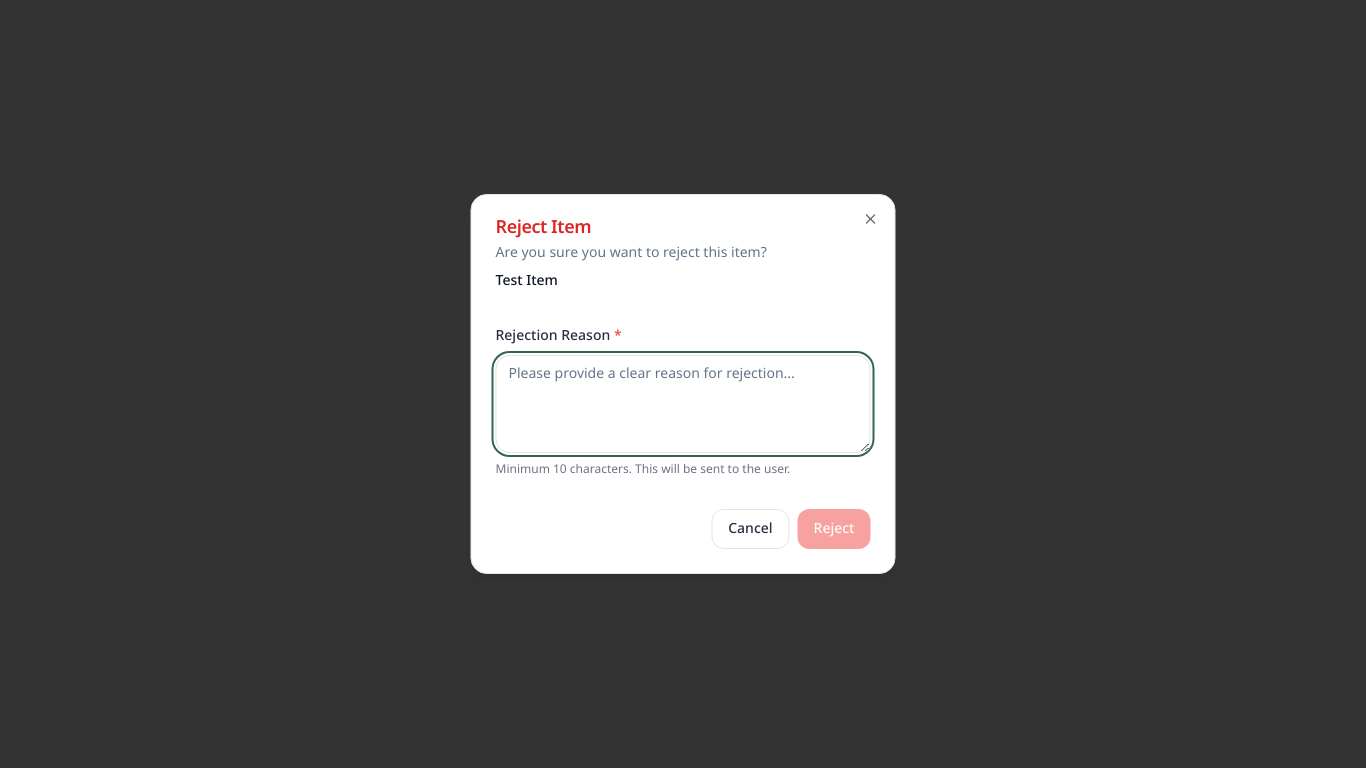
RejectDialog › Close/Cancel Tests › clears reason on close
This screenshot has width=1366, height=768.
Step 1. Type "Valid rejection reason" into the text box labelled "Rejection Reason *" → (683, 404), box [496, 355, 870, 453]
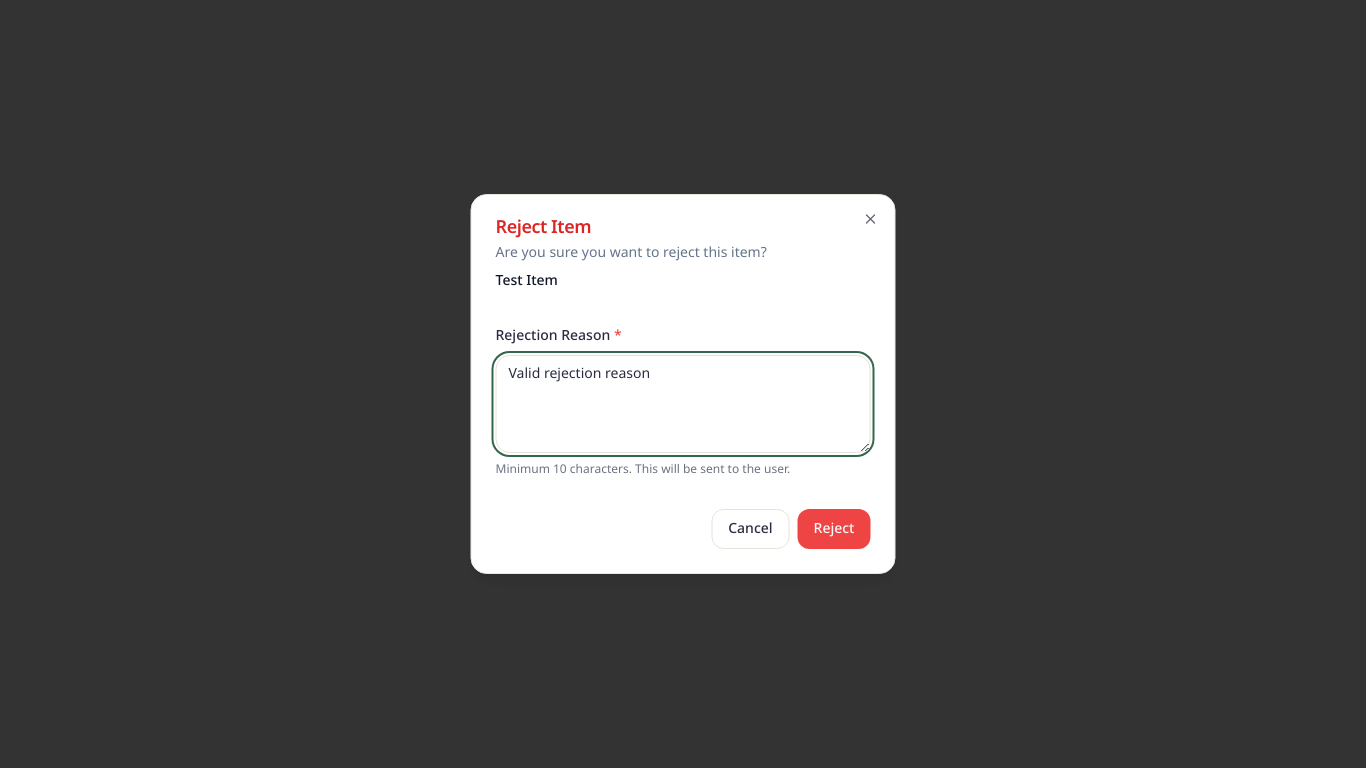
Step 2. Click the button "Cancel" → (750, 529), box [711, 509, 790, 549]
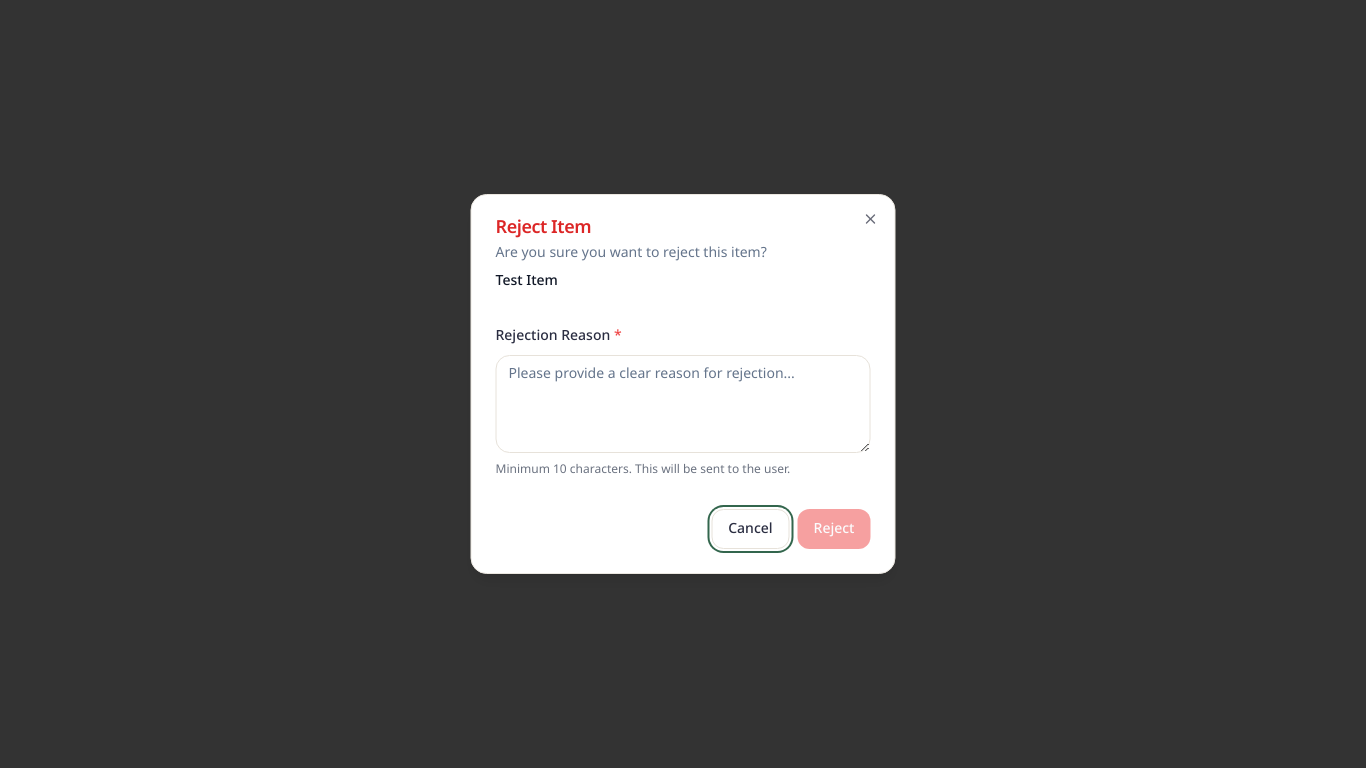
Now the text box labelled "Rejection Reason *" is empty, box [496, 355, 870, 453]
